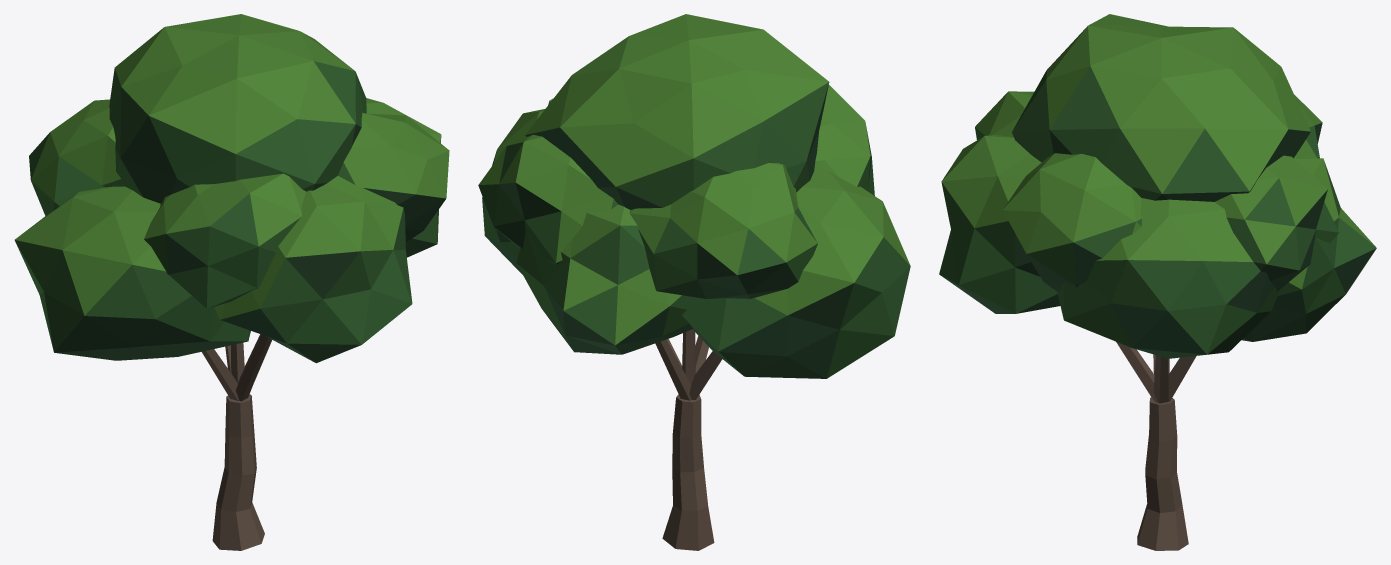
The model's file is T02_MangoTreeMedium.glb.
3 renders of one model, left to right at view 1: azimuth 30°, elevation 25°; view 2: azimuth 150°, elevation 25°; view 3: azimuth 270°, elevation 25°, orthographic.
Parts seen in each view (by area): view 1: T02_MangoTreeMedium; view 2: T02_MangoTreeMedium; view 3: T02_MangoTreeMedium.
Boxes of the visible parts, x1,y1,x2,y2 form: T02_MangoTreeMedium: (14, 14, 449, 550); T02_MangoTreeMedium: (478, 14, 910, 550); T02_MangoTreeMedium: (939, 14, 1376, 550).
Bounding box in the file's own units: 4.9 × 6.12 × 4.78.
